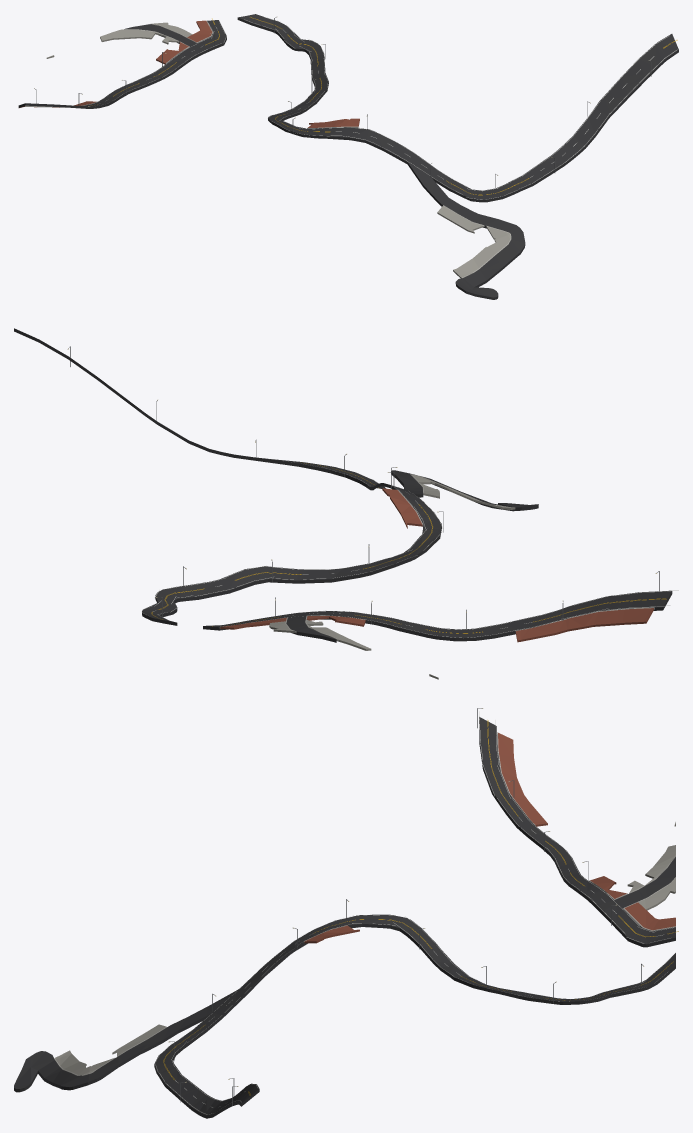
Rendered from 17-109461-59474.41524bee.glb.
3 views of the same model, one above another, from view 1: azimuth 30°, elevation 25°; view 2: azimuth 150°, elevation 25°; view 3: azimuth 270°, elevation 25° (orthographic). The views are drawn at different scales.
Bounding box in the file's own units: 297 × 75 × 227.
